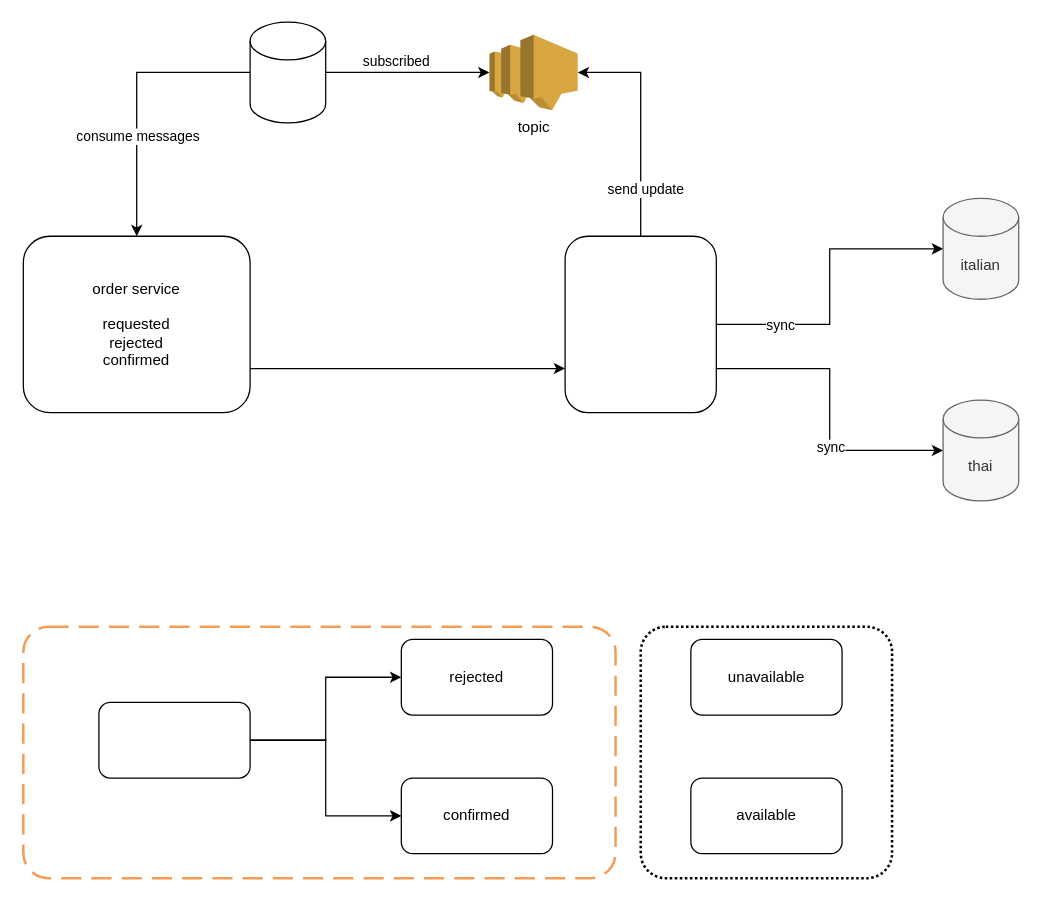
This 1041x901 diagram has some shape labels left out. The shapes that lost their labels are listed below. From the top down, each one's centre as x and y in pixels, then its label:
the point at 640,324: restaurant service available unavailable
the point at 174,739: requested
